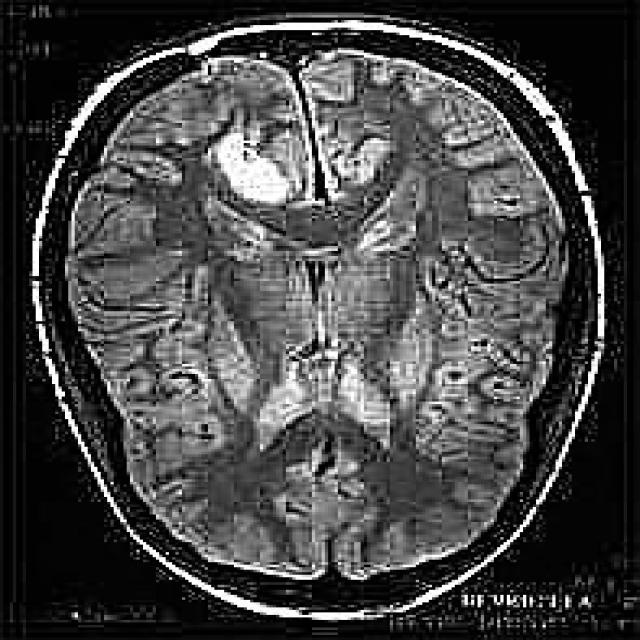Tumor-Cell: (193, 124, 408, 215)
